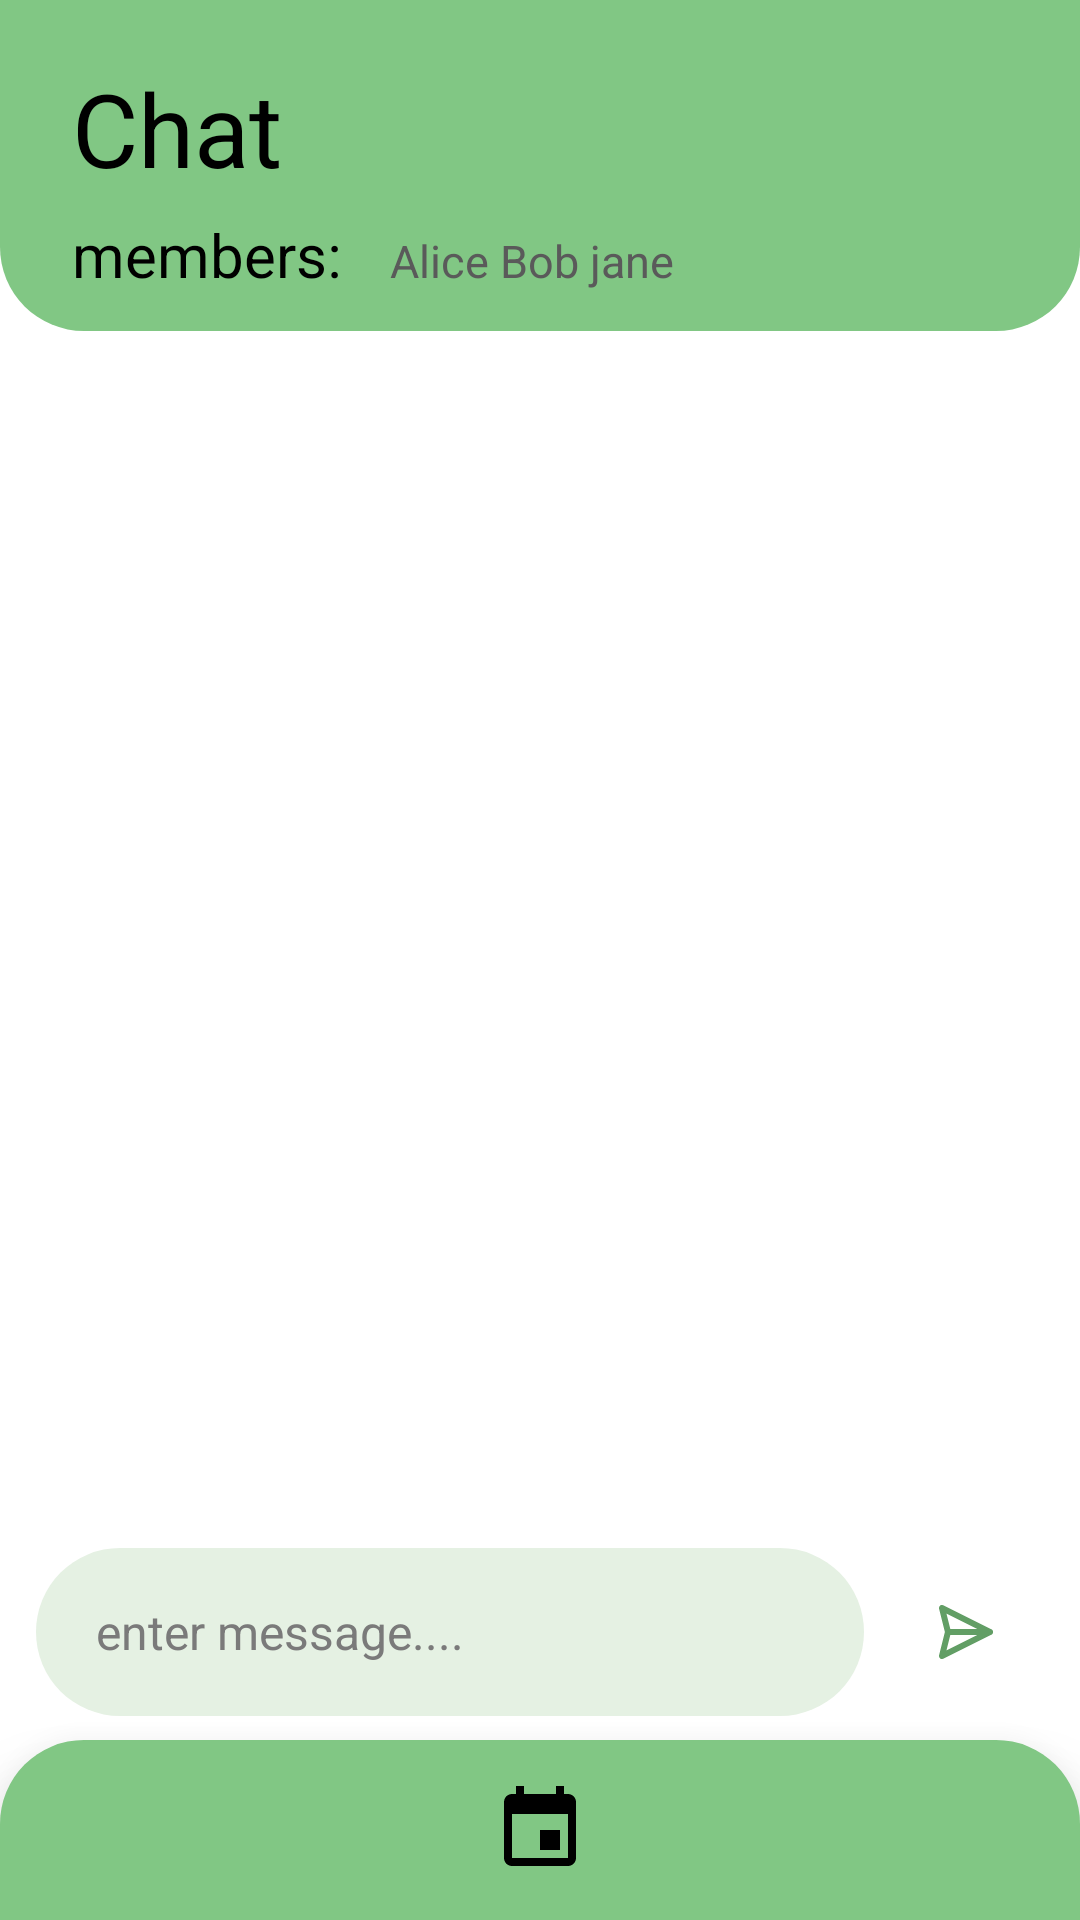

Icon click points for this 1080x1920 phone screenshot, format (x,y):
Calendar: (540,1826)
Send message: (966,1632)
